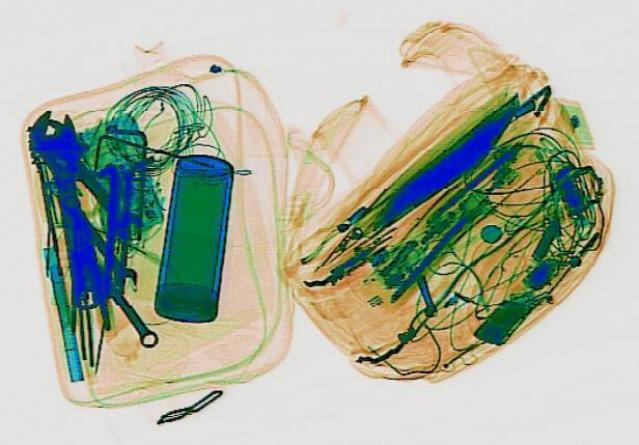Wrench: (20, 107, 109, 308), (23, 116, 151, 241), (61, 202, 141, 289), (87, 267, 161, 349)
